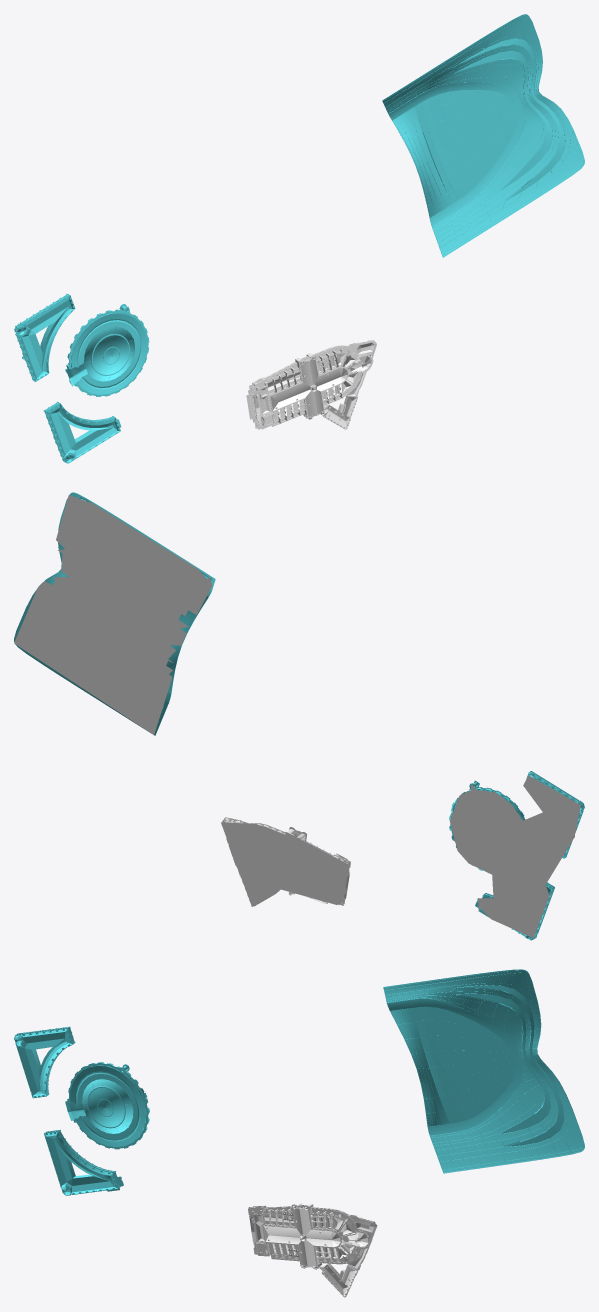
3 renders of one model, top to bottom at view 1: azimuth 30°, elevation 25°; view 2: azimuth 150°, elevation 25°; view 3: azimuth 330°, elevation 25°, orthographic.
Size of the model in its own units: 2436 by 1515 by 65.39.
